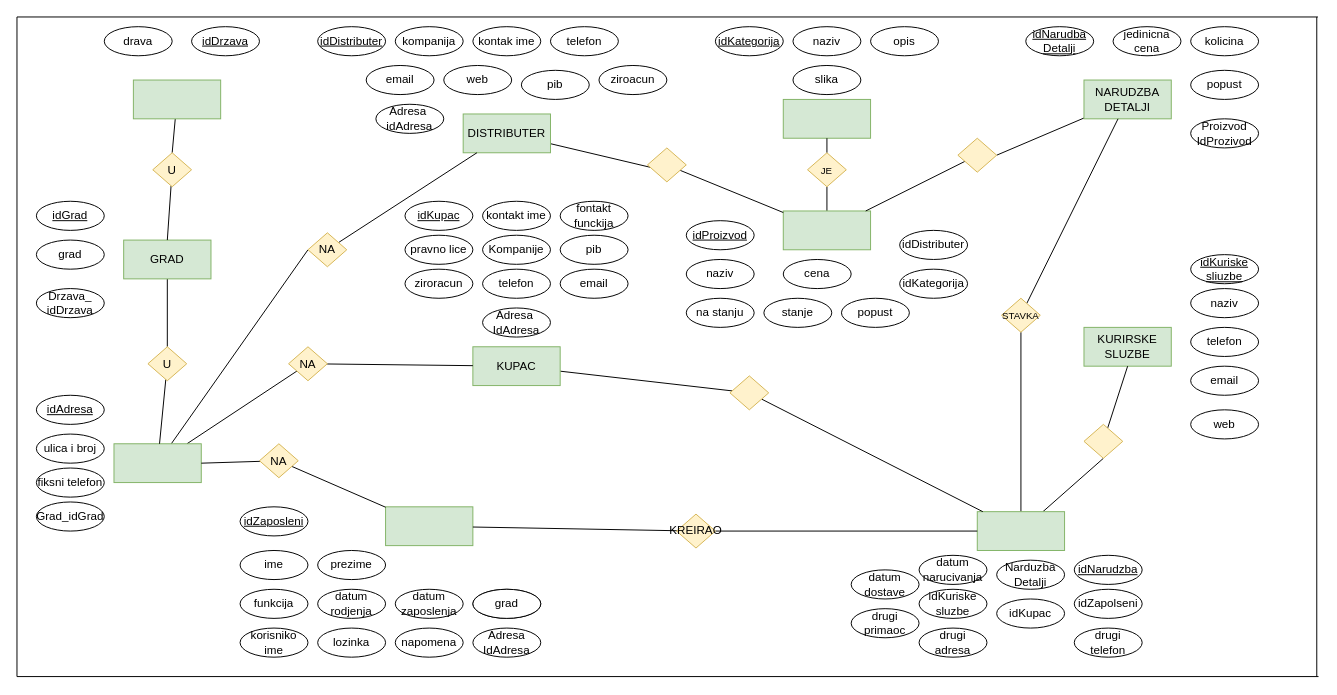
The diagram is 1337 pixels wide and 695 high, and some of its shapes have lost their labels. Here are the shapes that lost their labels. From the top down, the centre of each, then its label:
At (x=176, y=99): "DRZAVA".
At (x=826, y=118): "KATEGORIJA".
At (x=666, y=164): "DOBAVIO".
At (x=977, y=154): "SADRZI".
At (x=826, y=230): "PROIZVOD".
At (x=749, y=392): "NARUCIO".
At (x=1103, y=440): "PREKO".
At (x=157, y=463): "ADRESA".
At (x=429, y=526): "ZAPOSLENI".
At (x=1020, y=530): "NARUDZBA".
